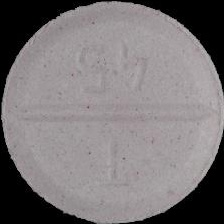61786-786: (0, 0, 224, 224)
